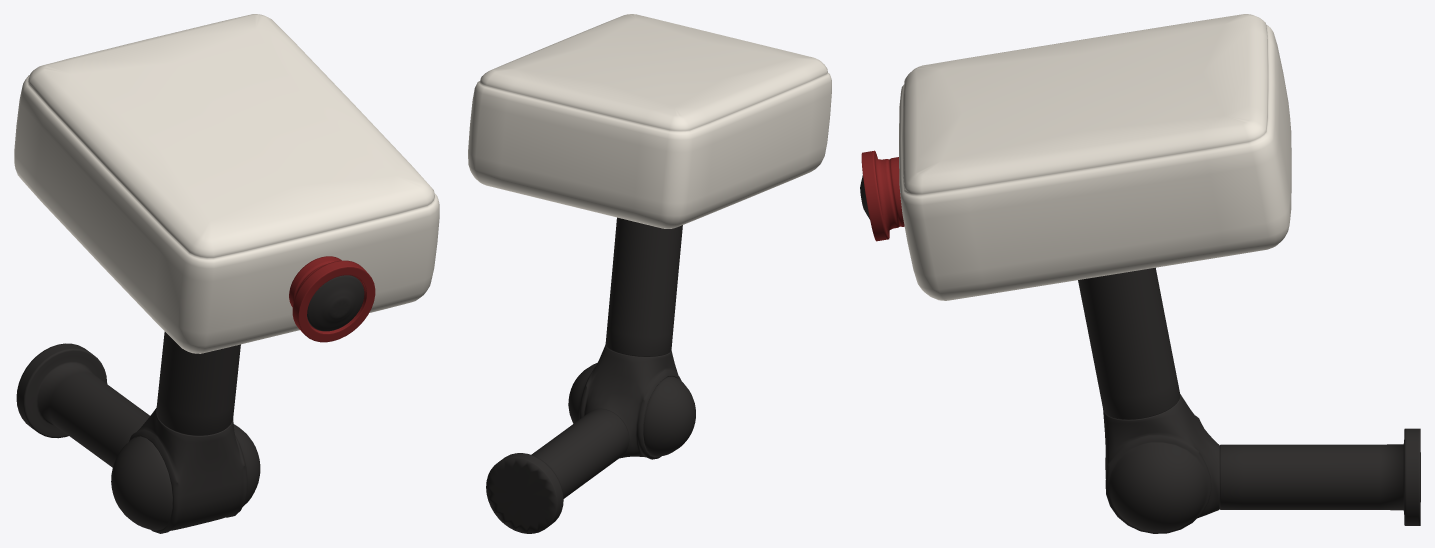
The model's file is Institute_WallCamera_Final.FBX.
The picture shows the model from 3 angles, left to right: view 1: azimuth 30°, elevation 25°; view 2: azimuth 150°, elevation 25°; view 3: azimuth 270°, elevation 25°; orthographic projection. The views are drawn at different scales.
Parts seen in each view (by area): view 1: Wall_Camera; view 2: Wall_Camera; view 3: Wall_Camera.
Boxes of the visible parts, x1=… form: Wall_Camera: x1=14, y1=14, x2=439, y2=533; Wall_Camera: x1=468, y1=14, x2=831, y2=533; Wall_Camera: x1=860, y1=14, x2=1420, y2=533.
Size of the model in its own units: 41.57 by 68.68 by 76.11.
